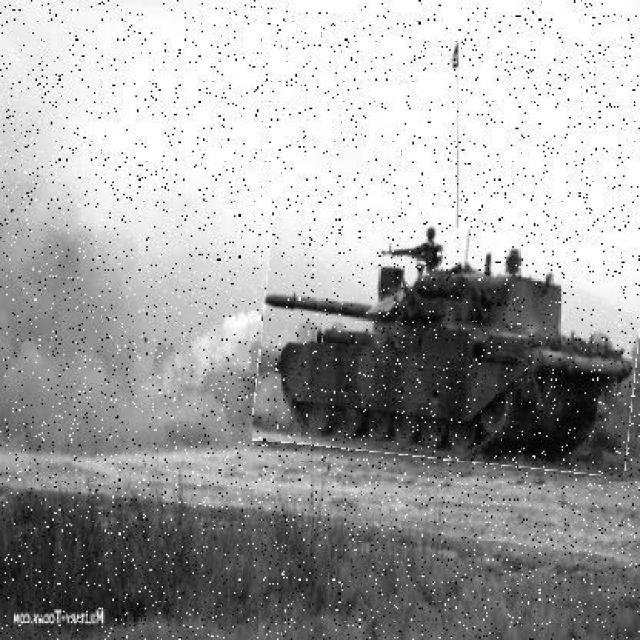Tank: (257, 218, 640, 472)
